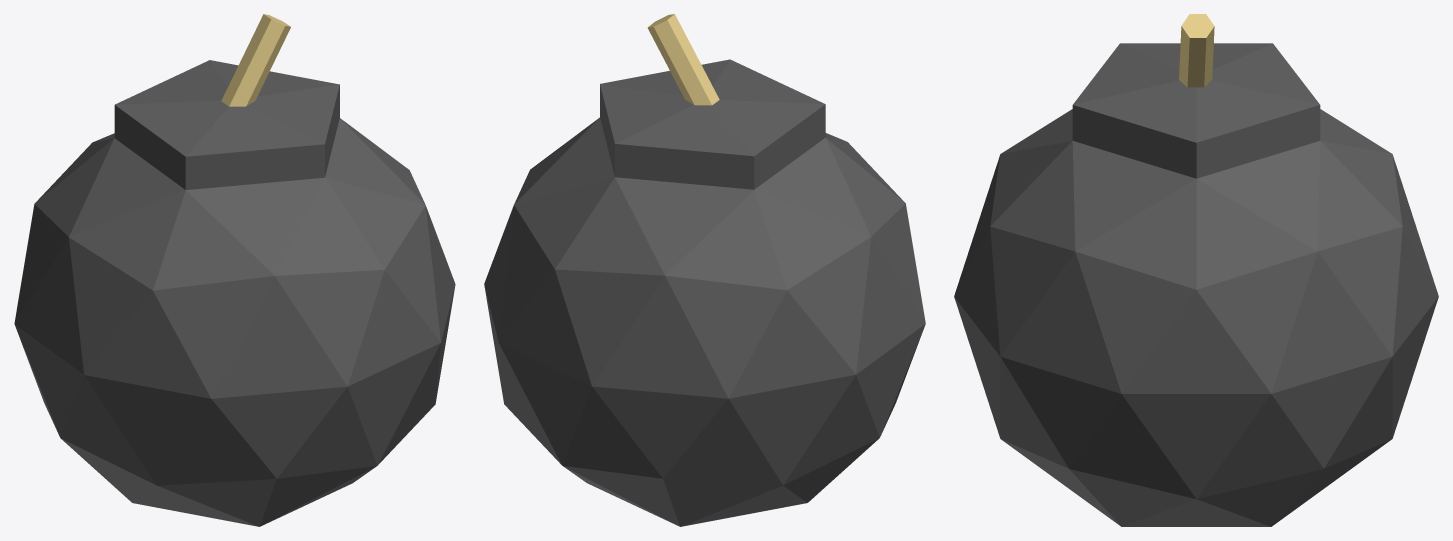
File: Bomb.fbx
3 views of the same model, side by side, from view 1: azimuth 30°, elevation 25°; view 2: azimuth 150°, elevation 25°; view 3: azimuth 270°, elevation 25° (orthographic). The views are drawn at different scales.
Parts seen in each view (by area): view 1: Bomb; view 2: Bomb; view 3: Bomb.
Part boxes in pixels (bbox=[...]): Bomb: bbox=[14, 14, 455, 526]; Bomb: bbox=[484, 14, 925, 526]; Bomb: bbox=[954, 14, 1438, 526].
Bounding box in the file's own units: 190 × 237 × 200.
